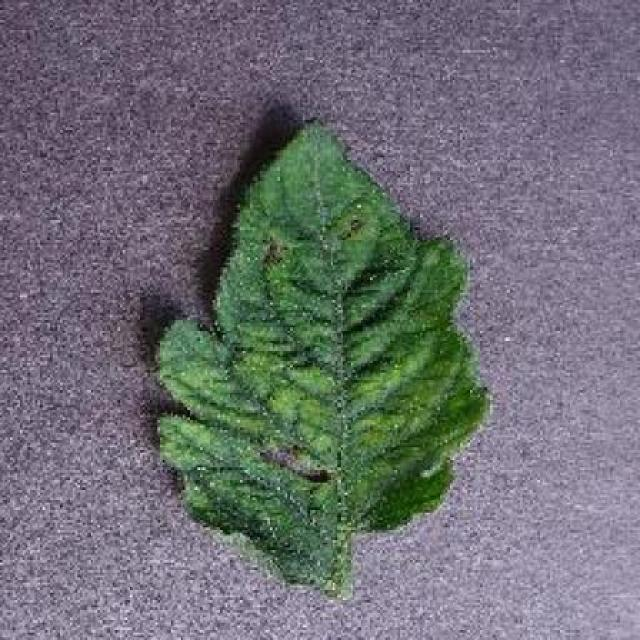Mosaic Virus: (150, 110, 491, 596)
